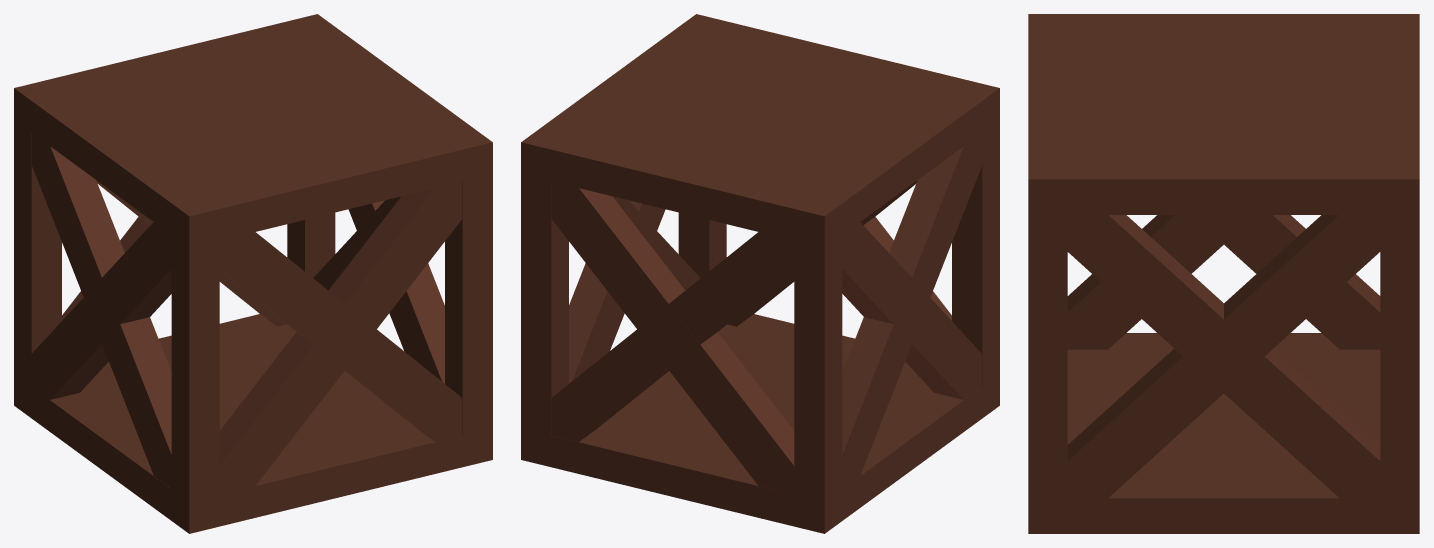
3 renders of one model, left to right at view 1: azimuth 30°, elevation 25°; view 2: azimuth 150°, elevation 25°; view 3: azimuth 270°, elevation 25°, orthographic. The views are drawn at different scales.
Visible parts, largest first — view 1: Cube.001; view 2: Cube.001; view 3: Cube.001.
Boxes of the visible parts, left/top/right/bottom form: Cube.001: left=14, top=14, right=492, bottom=533; Cube.001: left=521, top=14, right=999, bottom=533; Cube.001: left=1028, top=14, right=1419, bottom=533.
Bounding box in the file's own units: 200 × 200 × 200.
